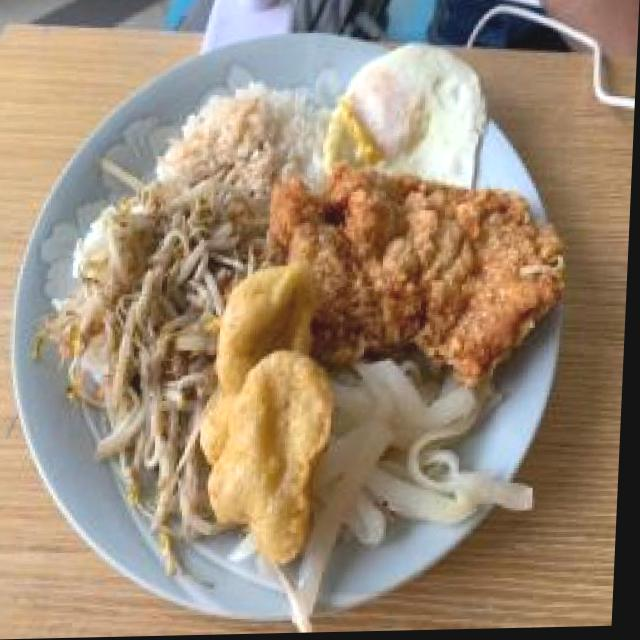chicken_nuggets: (203, 262, 337, 577)
fried_chicken: (286, 172, 572, 395)
fried_eggs: (320, 38, 493, 189)
mung_bean_sprouts: (90, 196, 224, 508)
rice: (173, 92, 325, 188)
